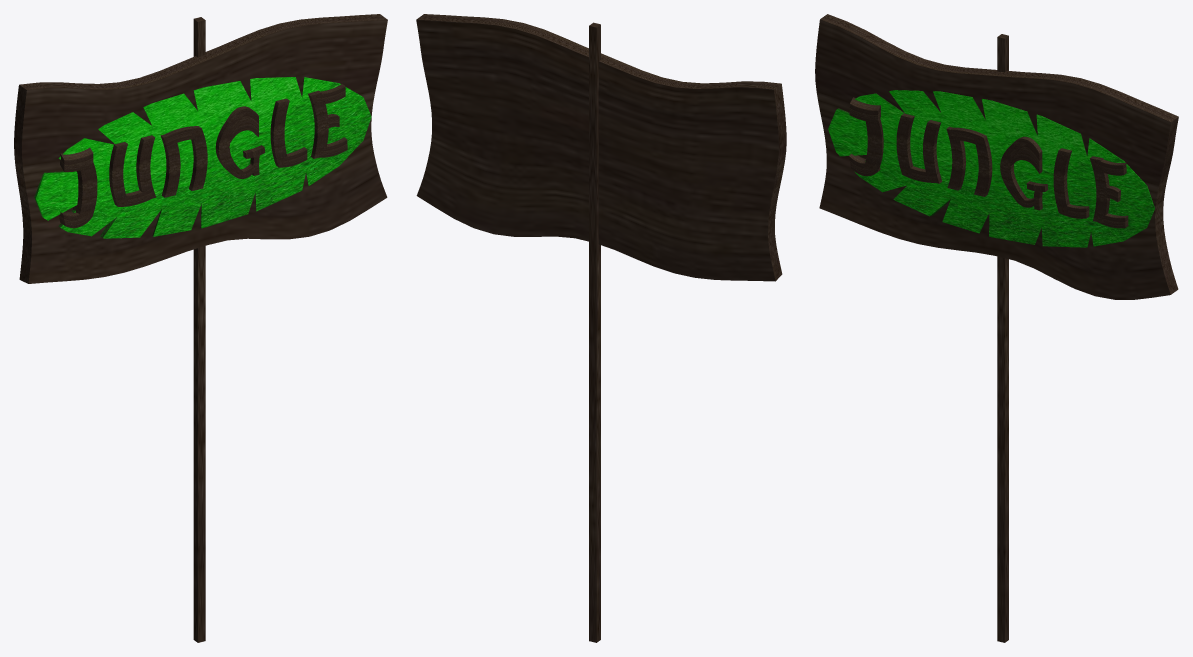
Rendered from jungle bord nieuw.fbx.
3 renders of one model, left to right at view 1: azimuth 30°, elevation 25°; view 2: azimuth 150°, elevation 25°; view 3: azimuth 330°, elevation 25°, orthographic. The views are drawn at different scales.
Parts seen in each view (by area): view 1: pCube2, pCylinder13, pCube1, pasted__pCube6 (×2), pCube3, pCube6, pCube12, pasted__pCube12, pasted__pasted__pCube6, pCube8, pCube9, pCube4; view 2: pCube2, pCube1; view 3: pCube2, pCylinder13, pCube1, pasted__pCube6 (×2), pCube12, pCube3, pCube6, pasted__pCube12, pCube8, pasted__pasted__pCube6, pCube9, pCube4.
Boxes of the visible parts, x1,y1,x2,y2 form: pCube2: [14, 14, 387, 283]; pCylinder13: [34, 77, 371, 238]; pCube1: [193, 17, 205, 642]; pasted__pCube6 (×2): [136, 128, 207, 199]; pCube3: [72, 160, 97, 218]; pCube6: [109, 142, 128, 206]; pCube12: [270, 98, 289, 166]; pasted__pCube12: [308, 90, 328, 158]; pasted__pasted__pCube6: [160, 134, 180, 197]; pCube8: [215, 113, 245, 176]; pCube9: [226, 106, 258, 142]; pCube4: [60, 148, 93, 172]; pCube2: [416, 14, 786, 281]; pCube1: [589, 22, 600, 642]; pCube2: [815, 14, 1178, 299]; pCylinder13: [828, 90, 1154, 247]; pCube1: [997, 34, 1008, 642]; pasted__pCube6 (×2): [923, 120, 992, 196]; pCube12: [1053, 148, 1071, 214]; pCube3: [864, 114, 883, 170]; pCube6: [896, 113, 914, 177]; pasted__pCube12: [1090, 156, 1109, 222]; pCube8: [1000, 141, 1026, 202]; pasted__pasted__pCube6: [946, 126, 965, 190]; pCube9: [1010, 136, 1042, 173]; pCube4: [849, 97, 880, 122].
Bounding box in the file's own units: 12.6 × 20.43 × 0.8309.
3 materials, 3 textured.
